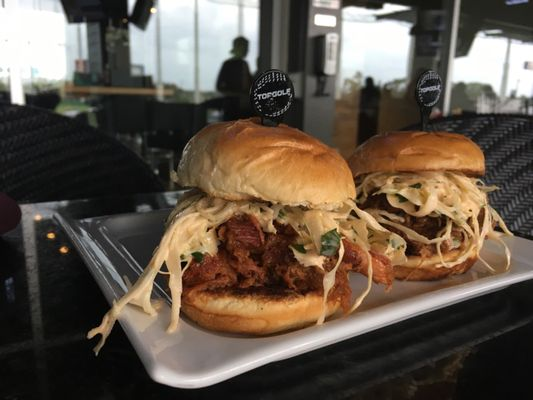soup: (157, 118, 369, 336), (345, 130, 490, 288)
